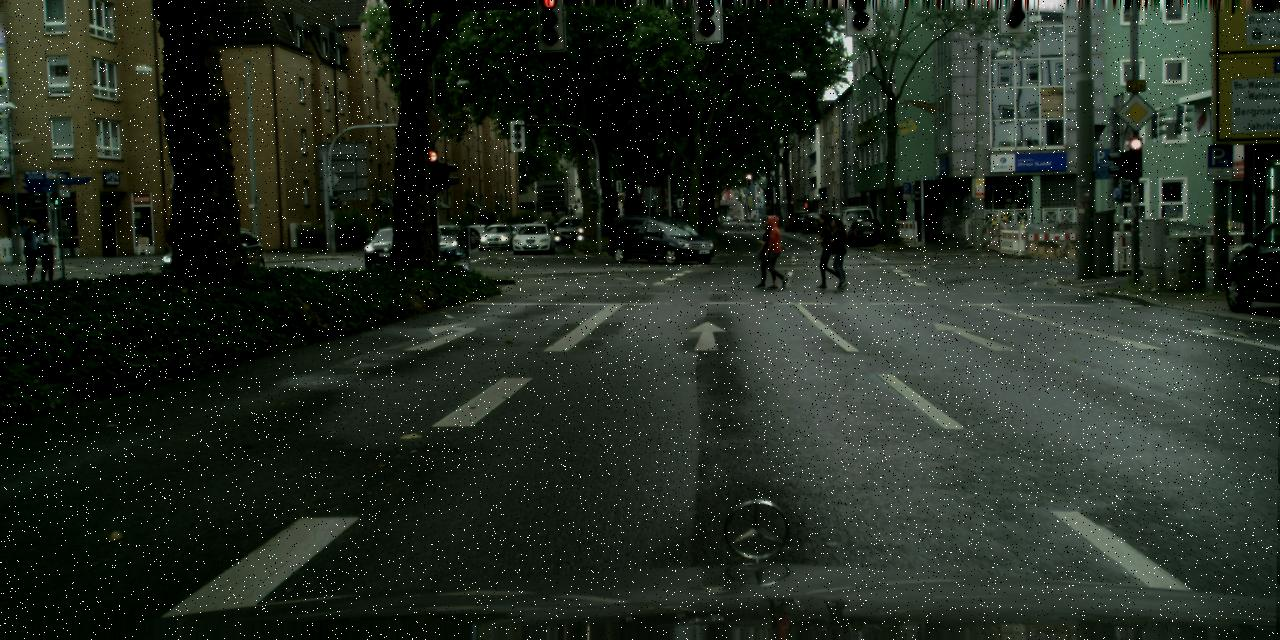ped: (760, 214, 790, 288), (811, 213, 841, 287), (16, 218, 44, 288), (754, 218, 782, 288), (825, 218, 853, 288), (32, 220, 59, 286)
